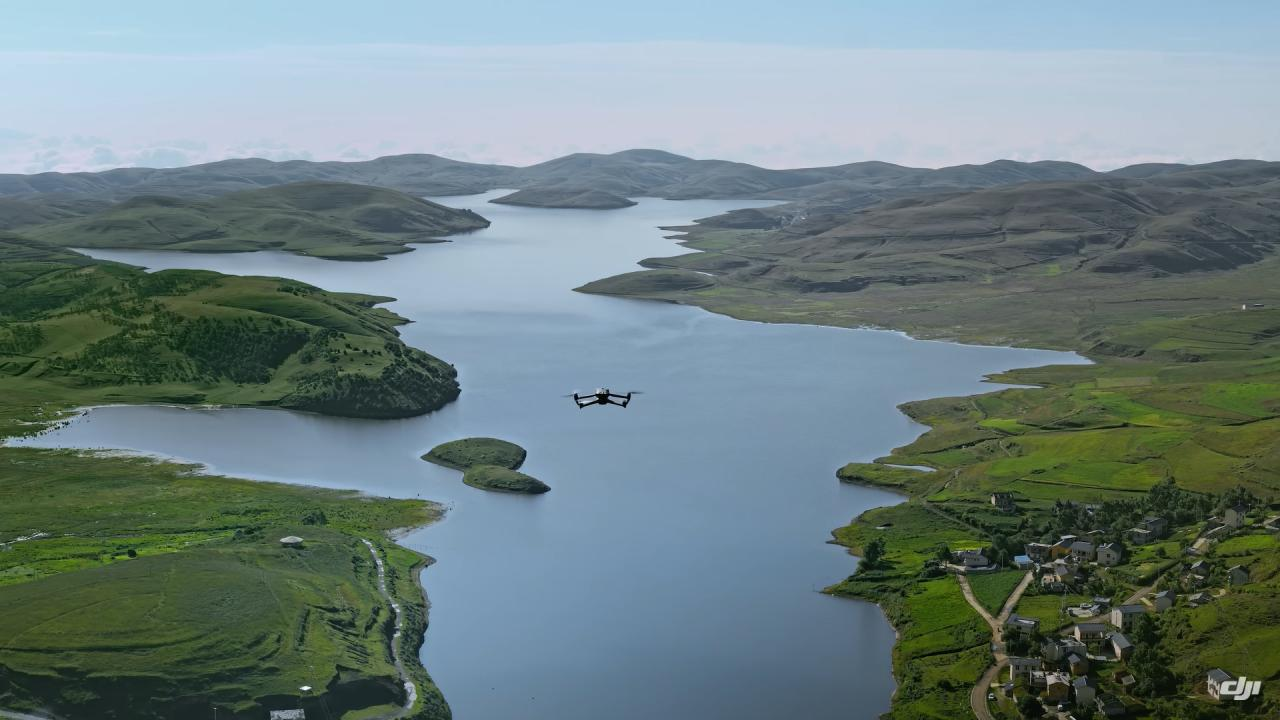Drone: (554, 378, 651, 421)
